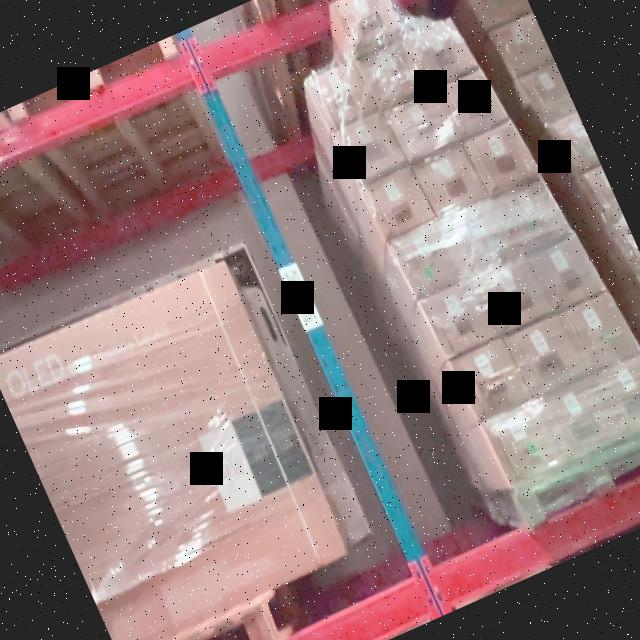box: (482, 398, 566, 487), (540, 377, 619, 461), (508, 315, 584, 396), (451, 340, 527, 421), (421, 278, 496, 359), (476, 257, 550, 333), (391, 221, 464, 297), (562, 294, 634, 371), (498, 177, 568, 254), (532, 236, 600, 310), (446, 201, 514, 275), (362, 168, 432, 238), (416, 145, 484, 215), (336, 110, 402, 182), (360, 38, 427, 108), (438, 69, 504, 140), (468, 122, 534, 192), (388, 90, 454, 160), (307, 59, 373, 128), (409, 17, 474, 87), (595, 354, 640, 436), (334, 0, 397, 48)
